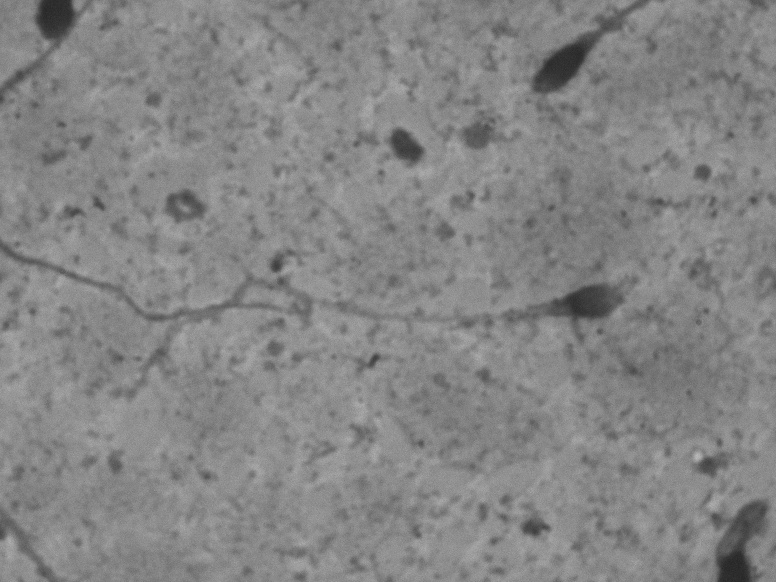Abnormal: (127, 233, 666, 408)
